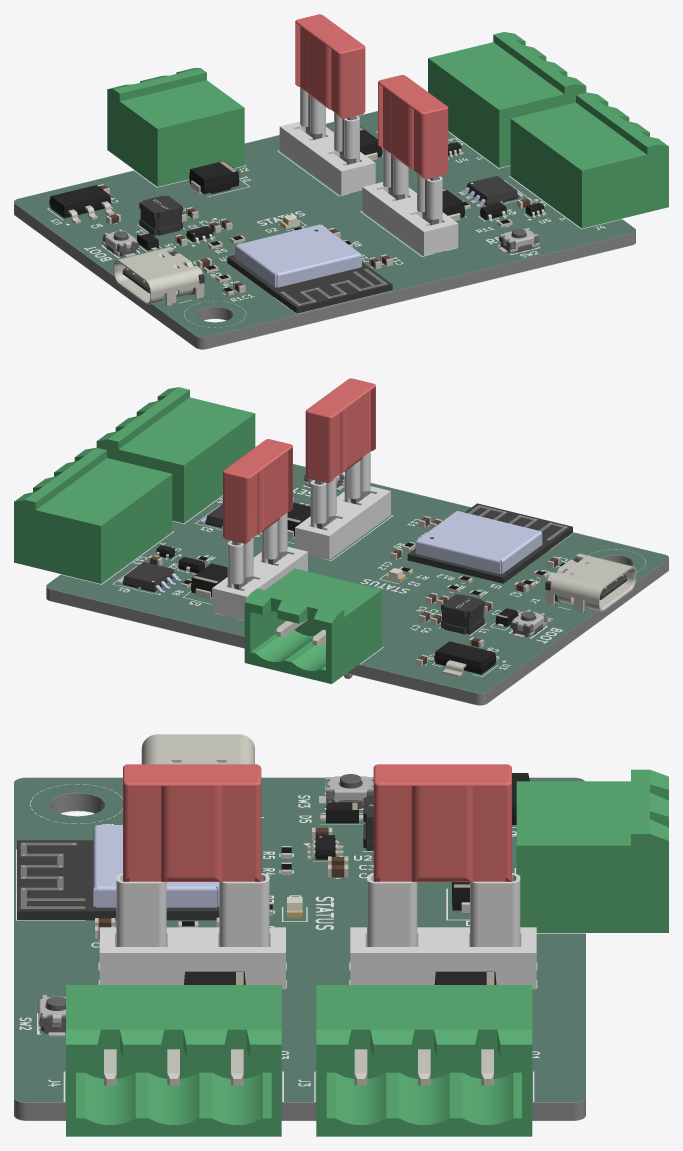
File: GlowLink.glb
3 views of the same model, one above another, from view 1: azimuth 30°, elevation 25°; view 2: azimuth 150°, elevation 25°; view 3: azimuth 270°, elevation 25° (orthographic). The views are drawn at different scales.
Visible parts, largest first — view 1: =>[0:1:1:24], =>[0:1:1:22], J4, J2, J3, Component1:1 (×2), U1, F1, F2, J1, =>[0:1:1:20], U3 (+8 smaller); view 2: =>[0:1:1:24], =>[0:1:1:22], J3, J2, Component1:1 (×2), J4, U1, F2, F1, J1, =>[0:1:1:20], U3 (+6 smaller); view 3: =>[0:1:1:22], =>[0:1:1:24], J3, J4, Component1:1 (×2), J2, F1, F2, U1, J1, =>[0:1:1:20], SW3 (+6 smaller).
Part boxes in pixels (x1,y1,x2,y2): =>[0:1:1:24]: (14, 112, 635, 349); =>[0:1:1:22]: (14, 111, 635, 337); J4: (510, 92, 668, 228); J2: (107, 68, 244, 186); J3: (428, 32, 586, 167); Component1:1 (×2): (295, 14, 448, 179); U1: (227, 224, 392, 313); F1: (279, 87, 375, 195); F2: (362, 148, 458, 255); J1: (113, 247, 204, 305); =>[0:1:1:20]: (47, 131, 622, 327); U3: (49, 185, 114, 223); =>[0:1:1:24]: (46, 465, 668, 704); =>[0:1:1:22]: (46, 464, 668, 693); J3: (14, 447, 172, 583); J2: (244, 568, 381, 683); Component1:1 (×2): (223, 378, 375, 543); J4: (96, 387, 255, 522); U1: (407, 503, 572, 583); F2: (295, 452, 390, 559); F1: (212, 512, 307, 620); J1: (545, 553, 636, 612); =>[0:1:1:20]: (61, 483, 645, 676); U3: (434, 641, 499, 677); =>[0:1:1:22]: (14, 777, 585, 1102); =>[0:1:1:24]: (14, 778, 585, 1120); J3: (316, 985, 532, 1136); J4: (66, 985, 281, 1136); Component1:1 (×2): (123, 764, 511, 881); J2: (516, 769, 668, 932); F1: (350, 873, 536, 989); F2: (99, 873, 285, 989); U1: (17, 825, 219, 920); J1: (141, 734, 254, 764); =>[0:1:1:20]: (16, 782, 585, 1101); SW3: (319, 774, 373, 808).
Bounding box in the file's own units: 0.0679 × 0.0218 × 0.0516.
